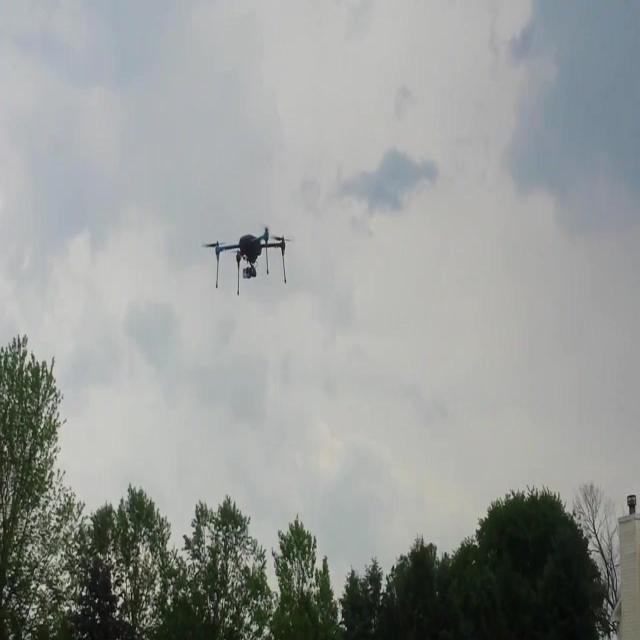drone: (208, 220, 292, 302)
